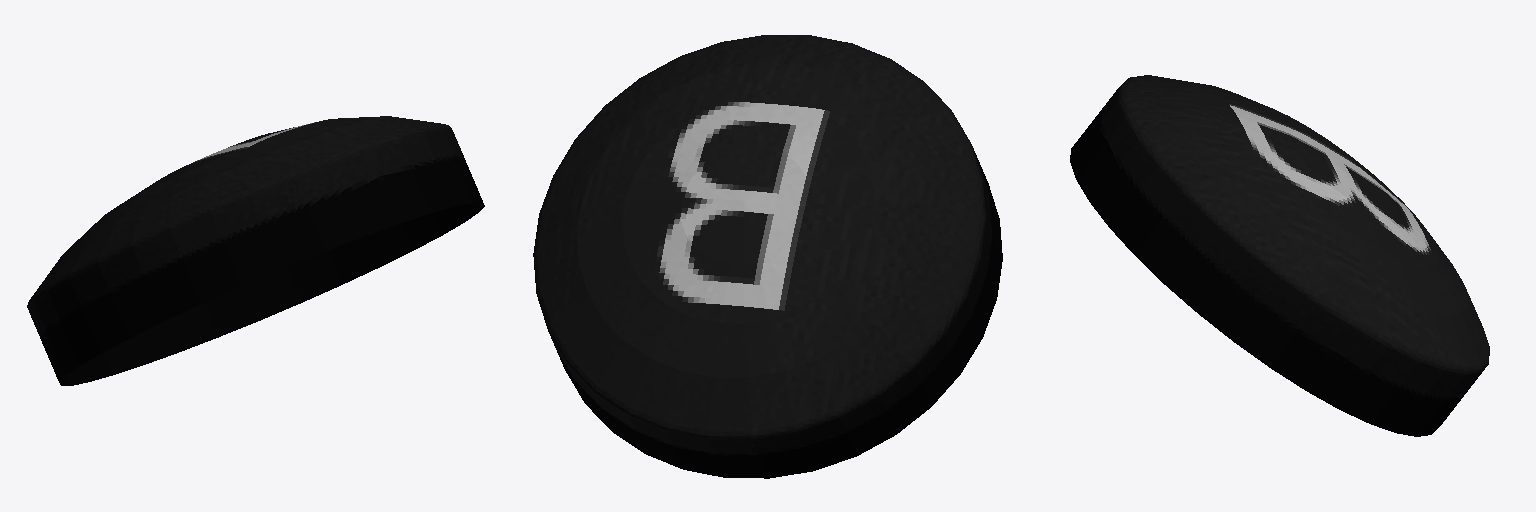
3 renders of one model, left to right at view 1: azimuth 30°, elevation 25°; view 2: azimuth 150°, elevation 25°; view 3: azimuth 270°, elevation 25°, orthographic.
Visible parts, largest first — view 1: oculus_quest2_controller_right_button_b; view 2: oculus_quest2_controller_right_button_b; view 3: oculus_quest2_controller_right_button_b.
Boxes of the visible parts, x1=… form: oculus_quest2_controller_right_button_b: x1=27, y1=116, x2=484, y2=385; oculus_quest2_controller_right_button_b: x1=533, y1=35, x2=1002, y2=478; oculus_quest2_controller_right_button_b: x1=1070, y1=75, x2=1489, y2=436.
Size of the model in its own units: 0.0101 by 0.0075 by 0.0091.
1 materials, 1 textured.